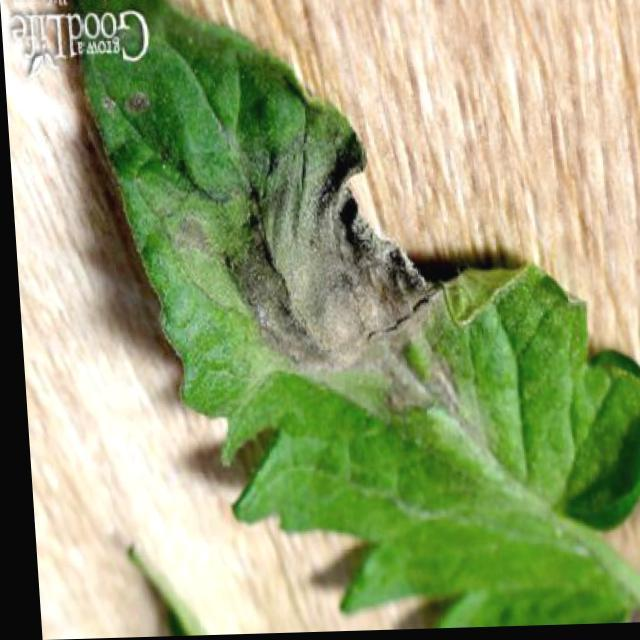Tomato mosaic virus leaf: (62, 0, 639, 634)
